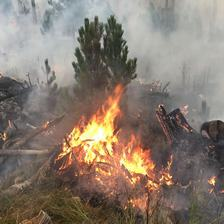fire: (58, 88, 164, 207)
